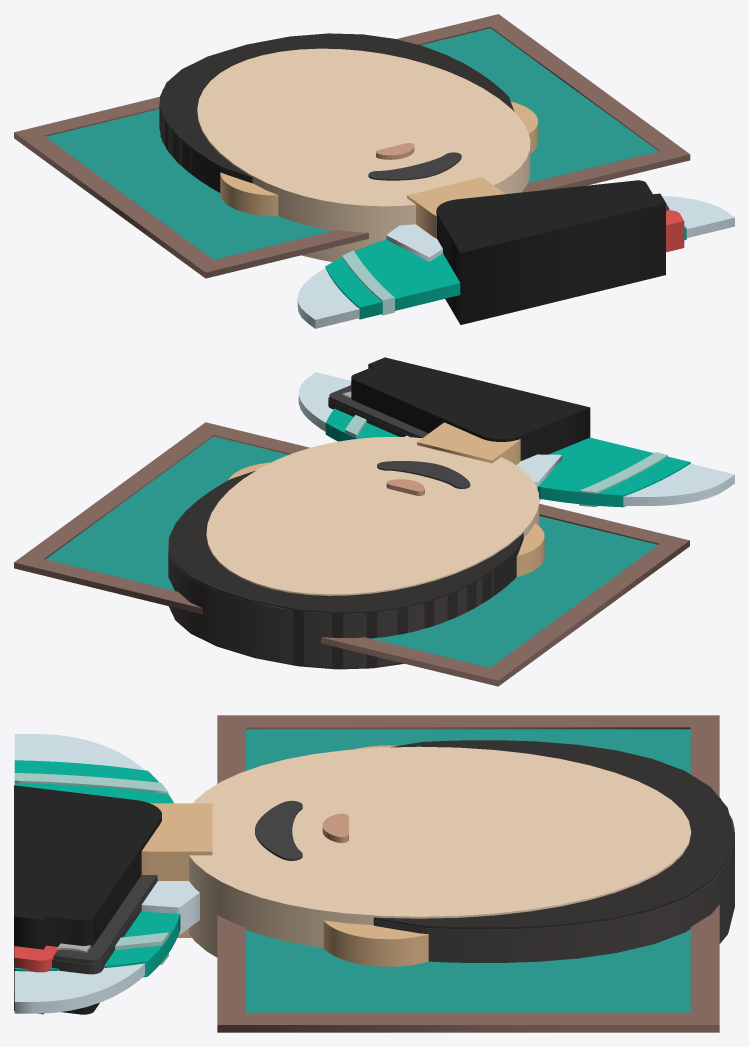
Rendered from emoji_u1f468_1f3fb_200d_1f3eb.glb.
3 renders of one model, top to bottom at view 1: azimuth 30°, elevation 25°; view 2: azimuth 150°, elevation 25°; view 3: azimuth 270°, elevation 25°, orthographic. The views are drawn at different scales.
Parts seen in each view (by area): view 1: emoji_u1f468_1f3fb_200d_1f3eb; view 2: emoji_u1f468_1f3fb_200d_1f3eb; view 3: emoji_u1f468_1f3fb_200d_1f3eb.
Boxes of the visible parts, x1,y1,x2,y2 form: emoji_u1f468_1f3fb_200d_1f3eb: [14, 14, 734, 328]; emoji_u1f468_1f3fb_200d_1f3eb: [14, 357, 734, 686]; emoji_u1f468_1f3fb_200d_1f3eb: [14, 715, 734, 1032].
Size of the model in its own units: 0.0338 by 0.0048 by 0.0333.
